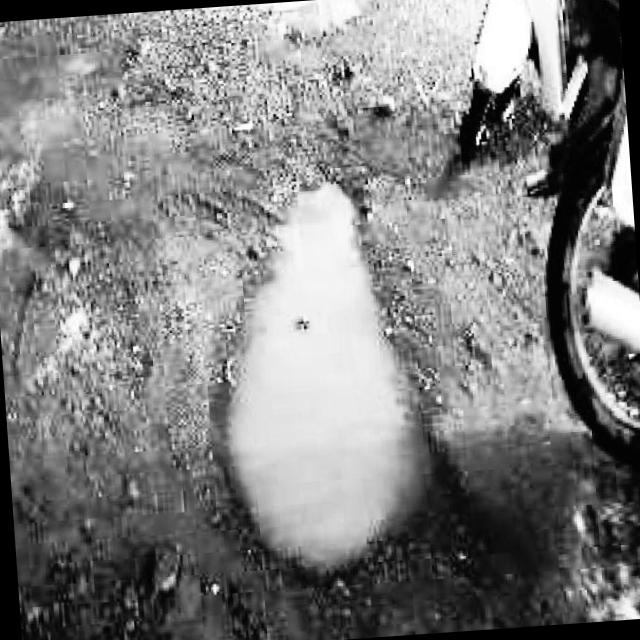Pothole: (176, 148, 474, 606)
